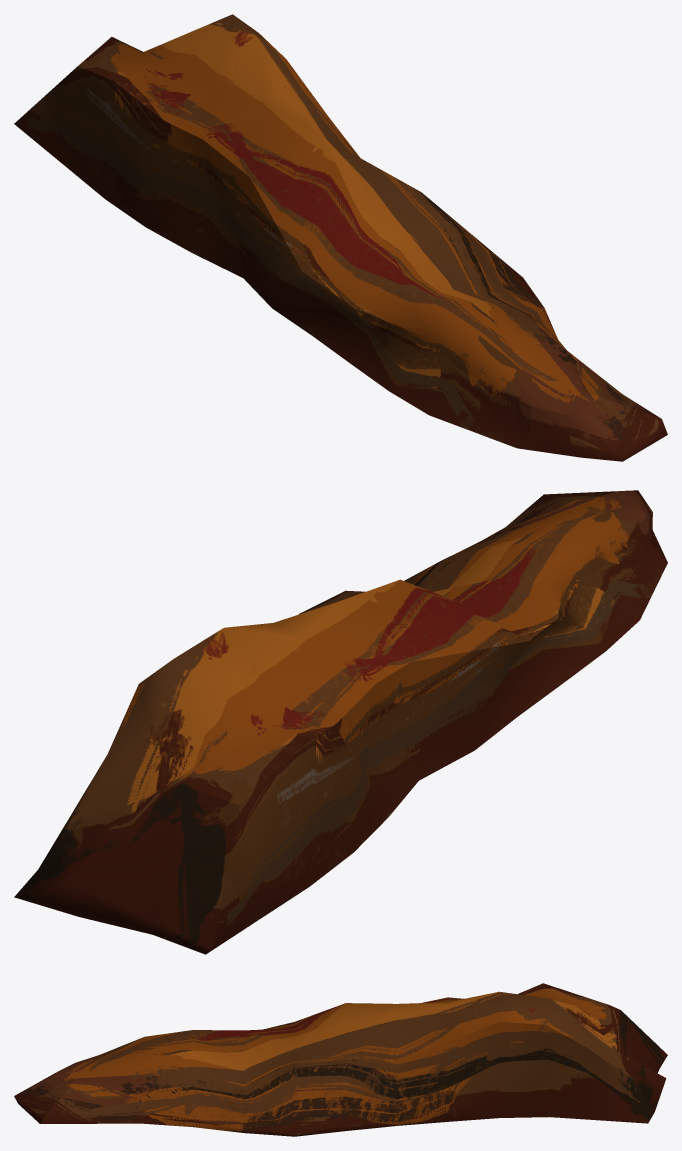
The model's file is rock1.fbx.
The picture shows the model from 3 angles, top to bottom: view 1: azimuth 30°, elevation 25°; view 2: azimuth 150°, elevation 25°; view 3: azimuth 270°, elevation 25°; orthographic projection. The views are drawn at different scales.
Parts seen in each view (by area): view 1: pCube1; view 2: pCube1; view 3: pCube1.
Part boxes in pixels (x1=…): pCube1: x1=14, y1=14, x2=667, y2=461; pCube1: x1=14, y1=490, x2=667, y2=954; pCube1: x1=14, y1=983, x2=667, y2=1136.
Size of the model in its own units: 1.79 by 1.22 by 6.58.
1 material, 1 textured.
